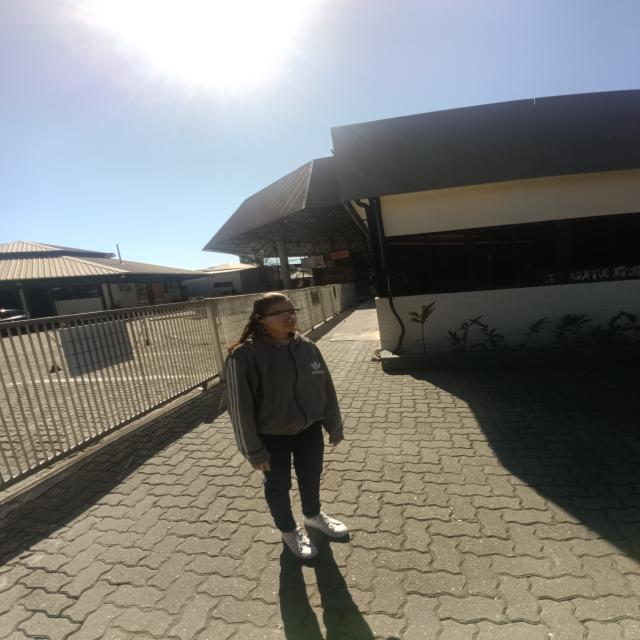oculos-epi: (260, 309, 300, 323)
